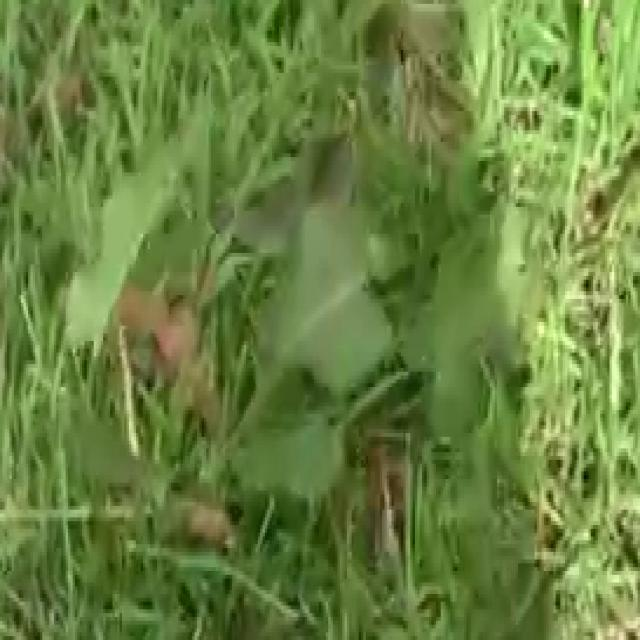organic waste: (59, 103, 548, 594)
